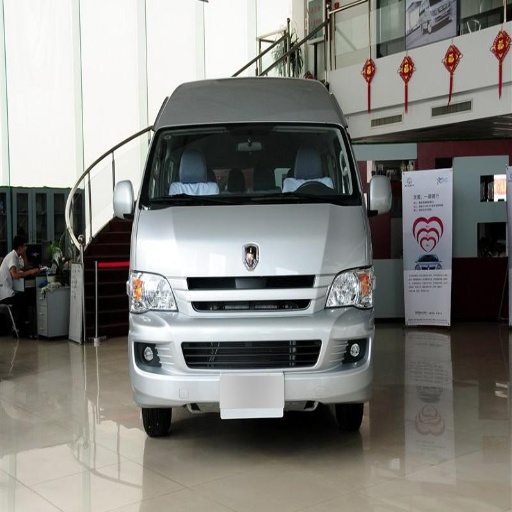front_bumper: (130, 274, 373, 416)
front_right_light: (127, 266, 176, 312)
hood: (139, 204, 368, 275)
trunk: (145, 206, 261, 258)
